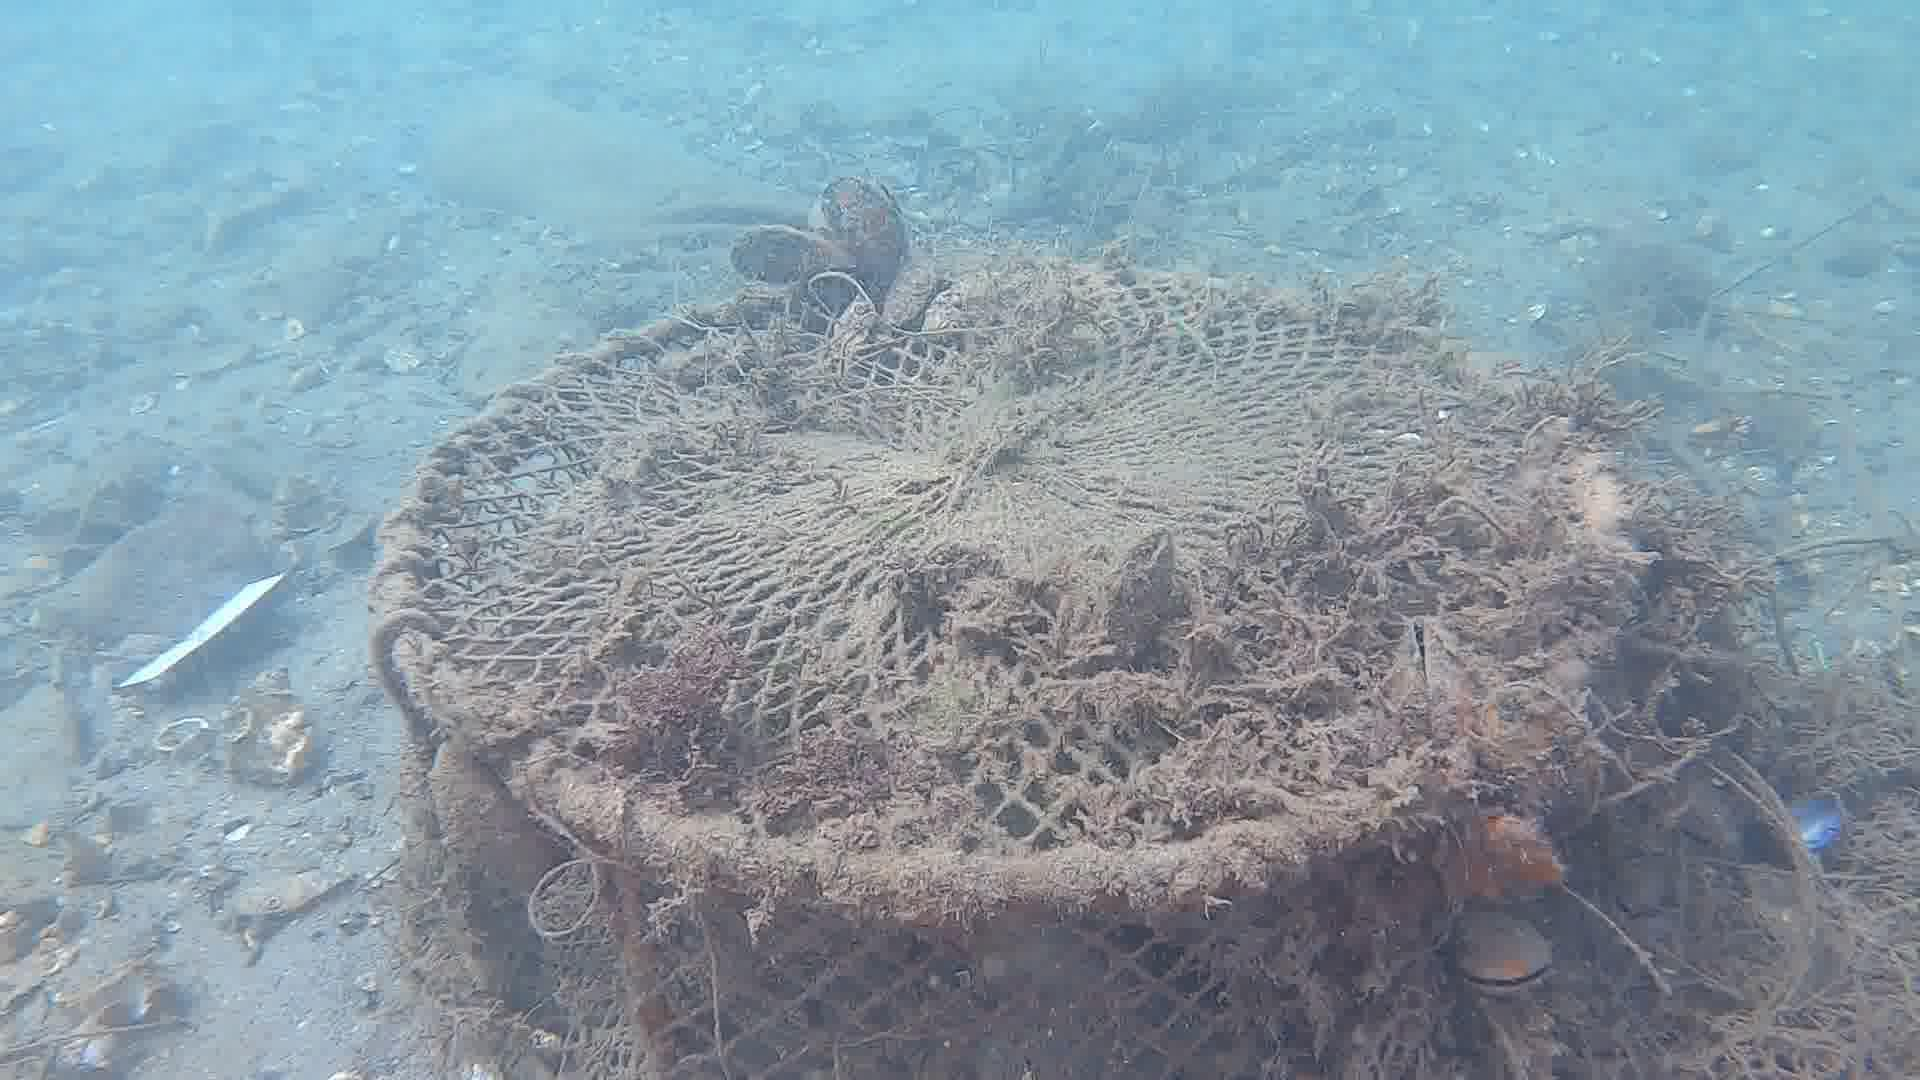circular fish trap: (368, 255, 1644, 1080)
